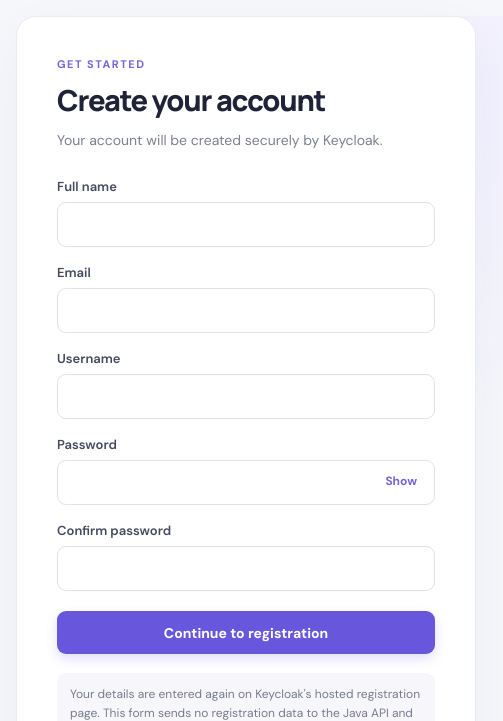
Register › shows a validation message when passwords do not match
Type "Ada Lovelace" into the field labelled "Full name". click: (246, 225)
box: x1=57 y1=202 x2=435 y2=247
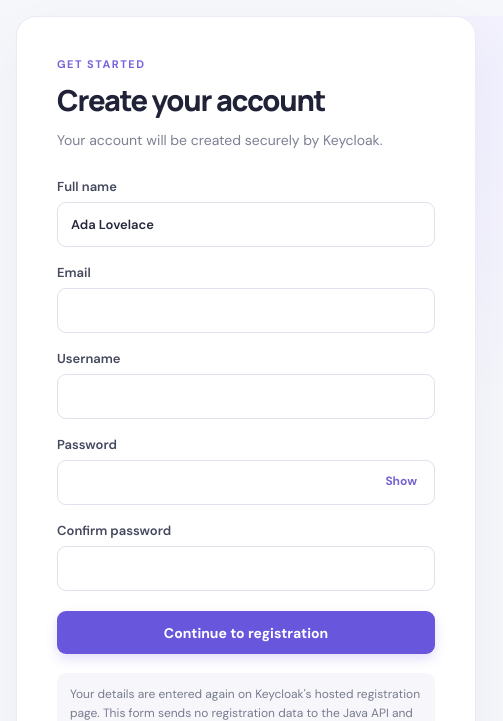
Type "ada@example.com" into the field labelled "Email". click: (246, 311)
box: x1=57 y1=288 x2=435 y2=333
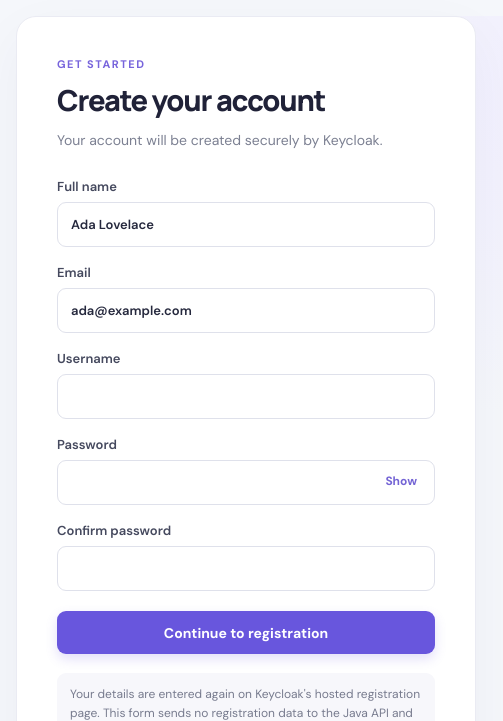
Type "ada" into the field labelled "Username". click: (246, 397)
box: x1=57 y1=374 x2=435 y2=419
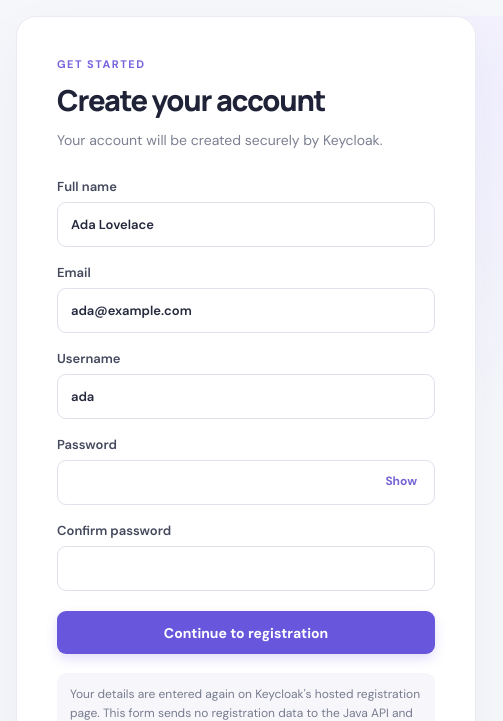
Type "password123" into the password field labelled "Password". click: (246, 483)
box: x1=57 y1=460 x2=435 y2=505
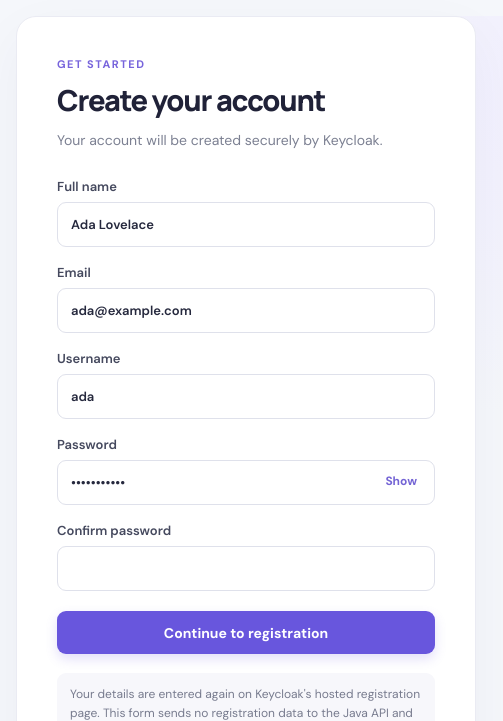
Type "different123" into the password field labelled "Confirm password". click: (246, 569)
box: x1=57 y1=546 x2=435 y2=591
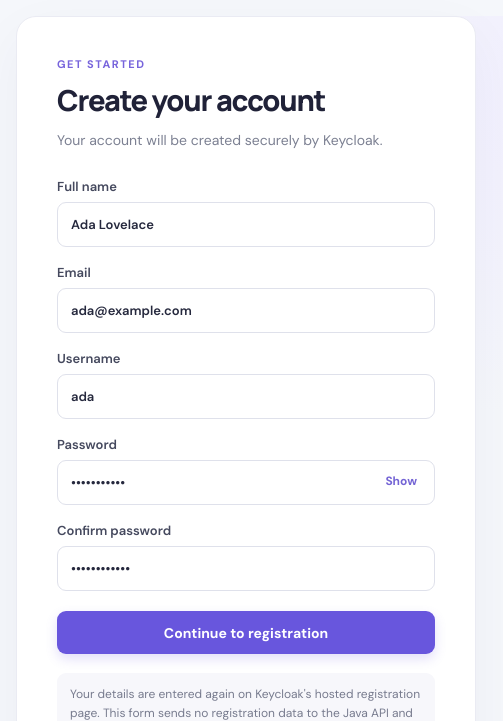
Click the button "Continue to registration". click: (246, 633)
box: x1=57 y1=611 x2=435 y2=654
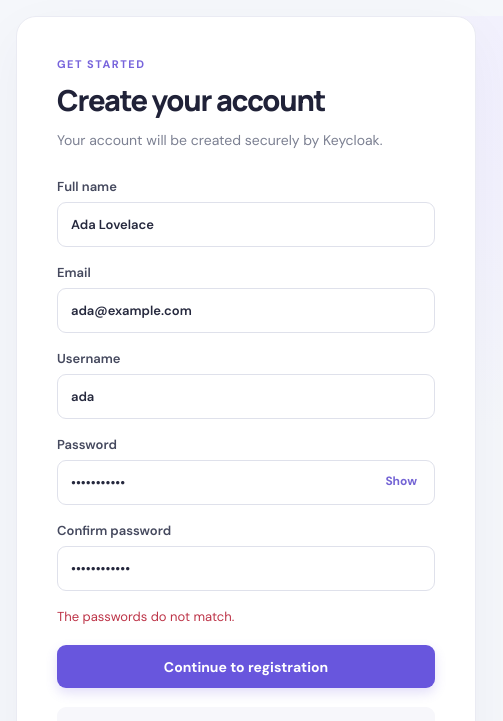
Now the message reads "The passwords do not match.", box x1=57 y1=608 x2=234 y2=625
